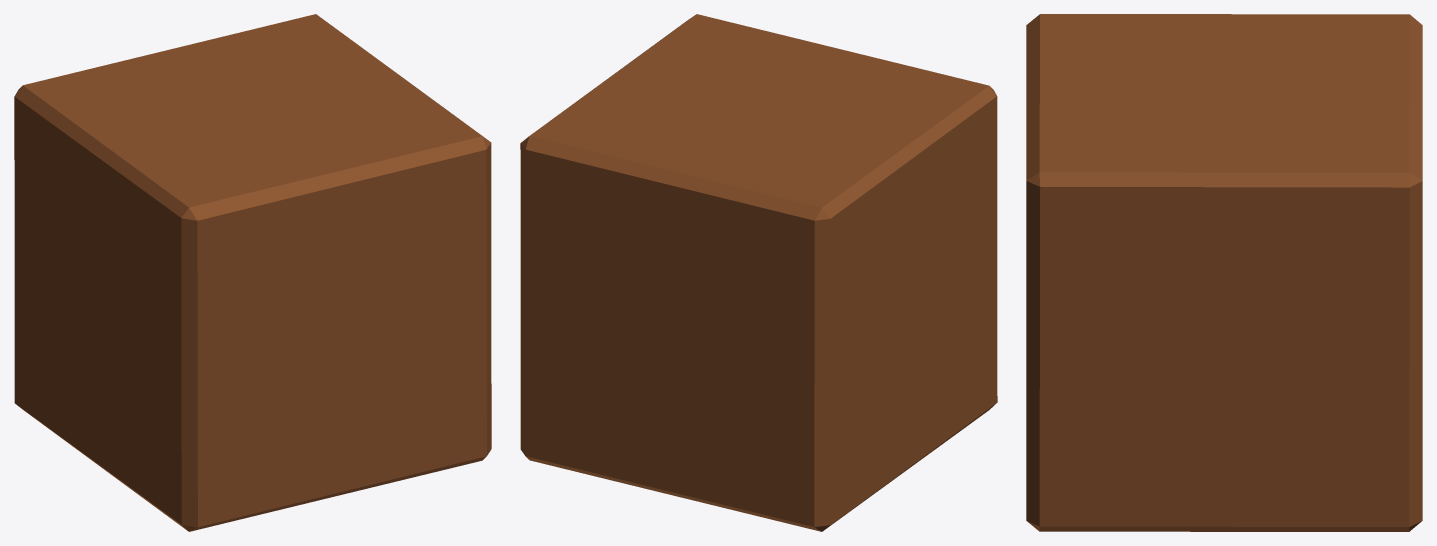
File: SM_UsedPowerUp.fbx
The picture shows the model from 3 angles, left to right: view 1: azimuth 30°, elevation 25°; view 2: azimuth 150°, elevation 25°; view 3: azimuth 270°, elevation 25°; orthographic projection. The views are drawn at different scales.
Parts seen in each view (by area): view 1: SM_UsedPowerUp; view 2: SM_UsedPowerUp; view 3: SM_UsedPowerUp.
Boxes of the visible parts, bbox=[...] form: SM_UsedPowerUp: bbox=[14, 14, 491, 531]; SM_UsedPowerUp: bbox=[520, 14, 997, 531]; SM_UsedPowerUp: bbox=[1026, 14, 1422, 531].
Size of the model in its own units: 1.17 by 1.17 by 1.17.
